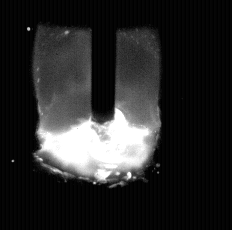arame: (93, 0, 116, 124)
poca: (40, 0, 153, 230)
